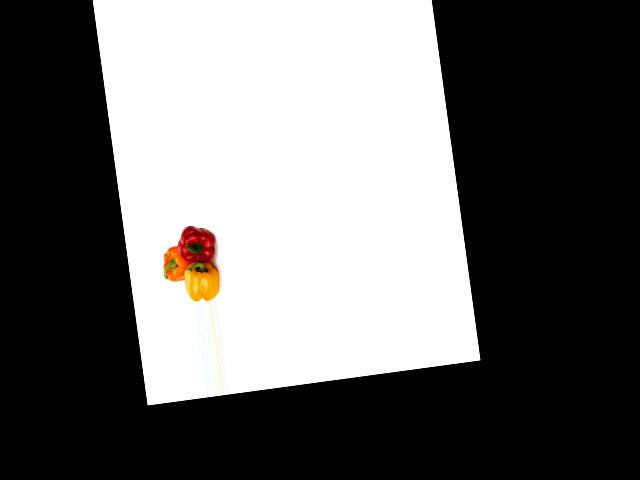bell_pepper: (181, 261, 225, 303)
